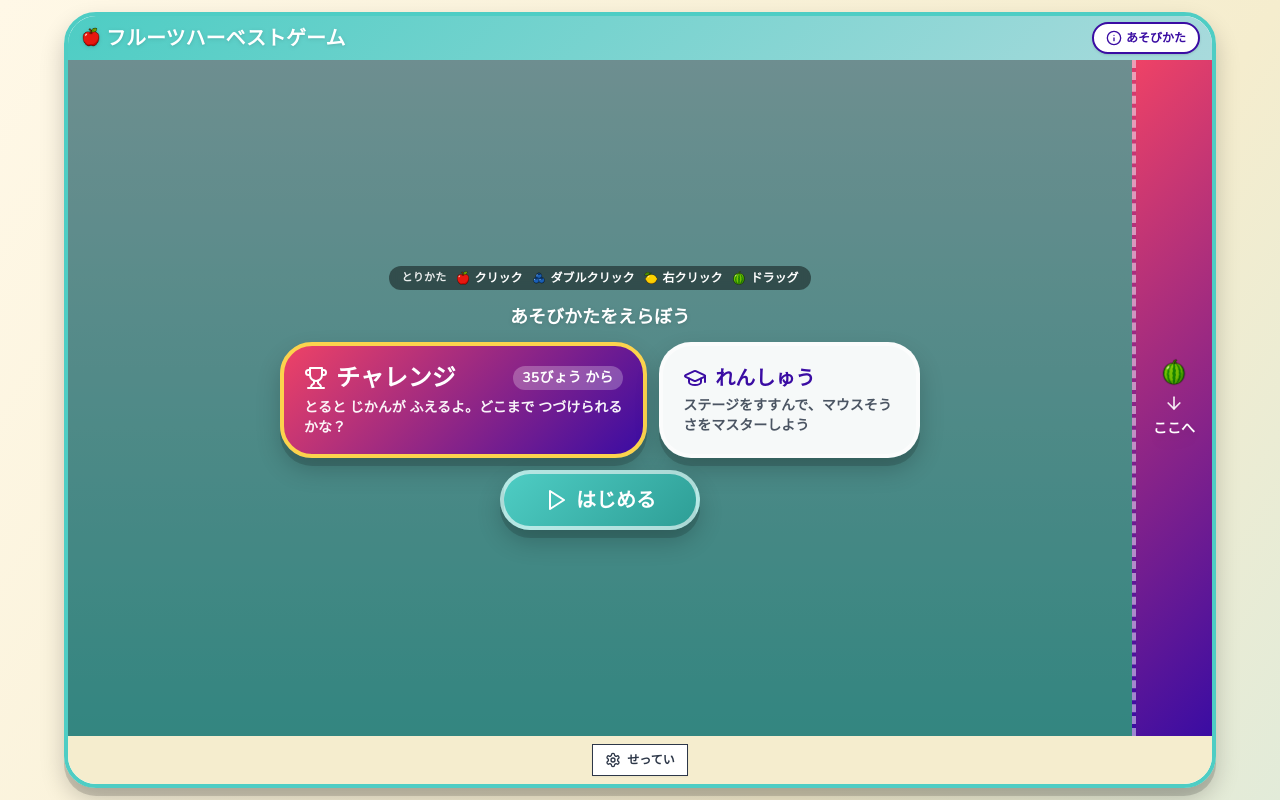
Test: Internationalization (i18n) › Language Toggle › should toggle between Japanese and English
What coordinates should you click on to do the following:
click the button "せってい"
I would click on:
 (640, 760)
Its box is [592,744,688,776].
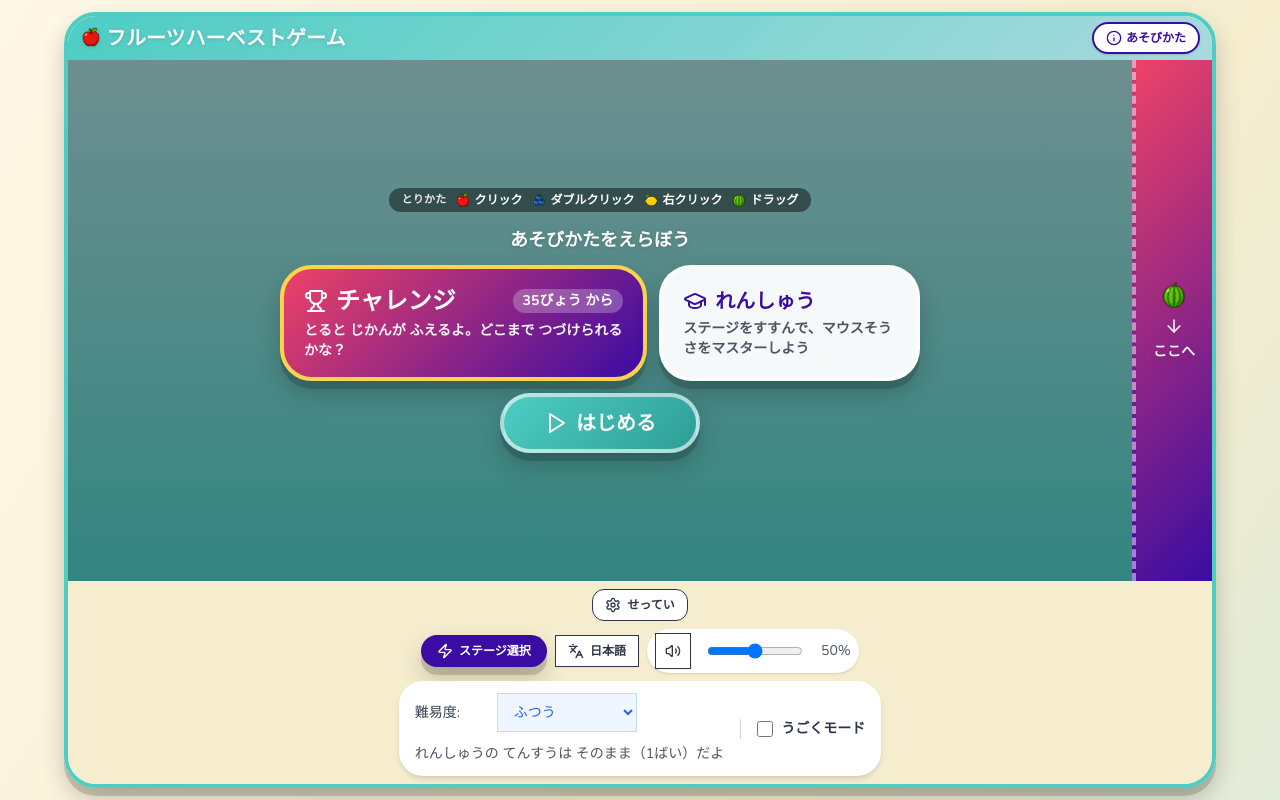
Check: the heading reads "フルーツハーベストゲーム", box [106,26,345,50]
What coordinates should you click on to do the following:
click the button with aria-label "language"
I would click on:
 (597, 651)
Its box is [555,635,639,667].
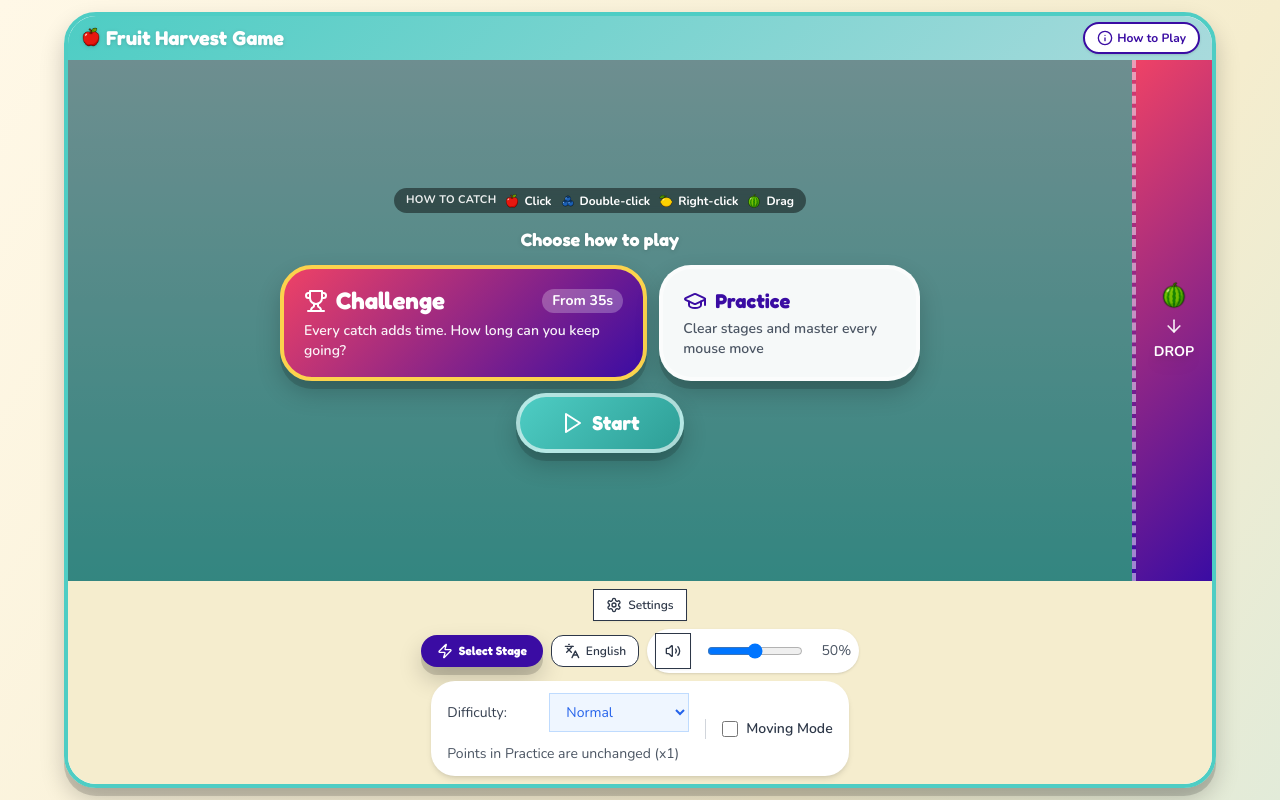
Check: the heading reads "Fruit Harvest Game", box [106,26,284,50]
What coordinates should you click on to do the following:
click the button with aria-label "language"
I would click on:
 (595, 651)
Its box is [551,635,639,667].
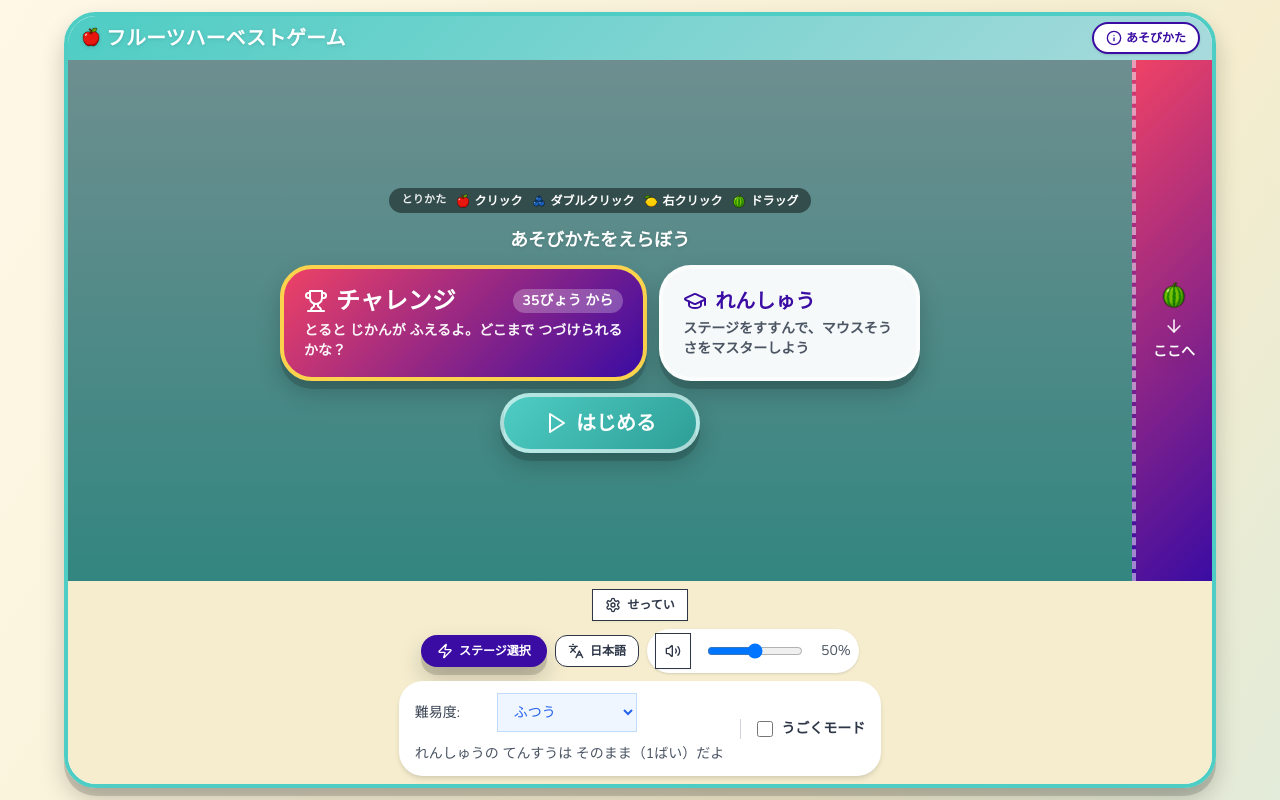
Check: the heading reads "フルーツハーベストゲーム", box [106,26,345,50]
